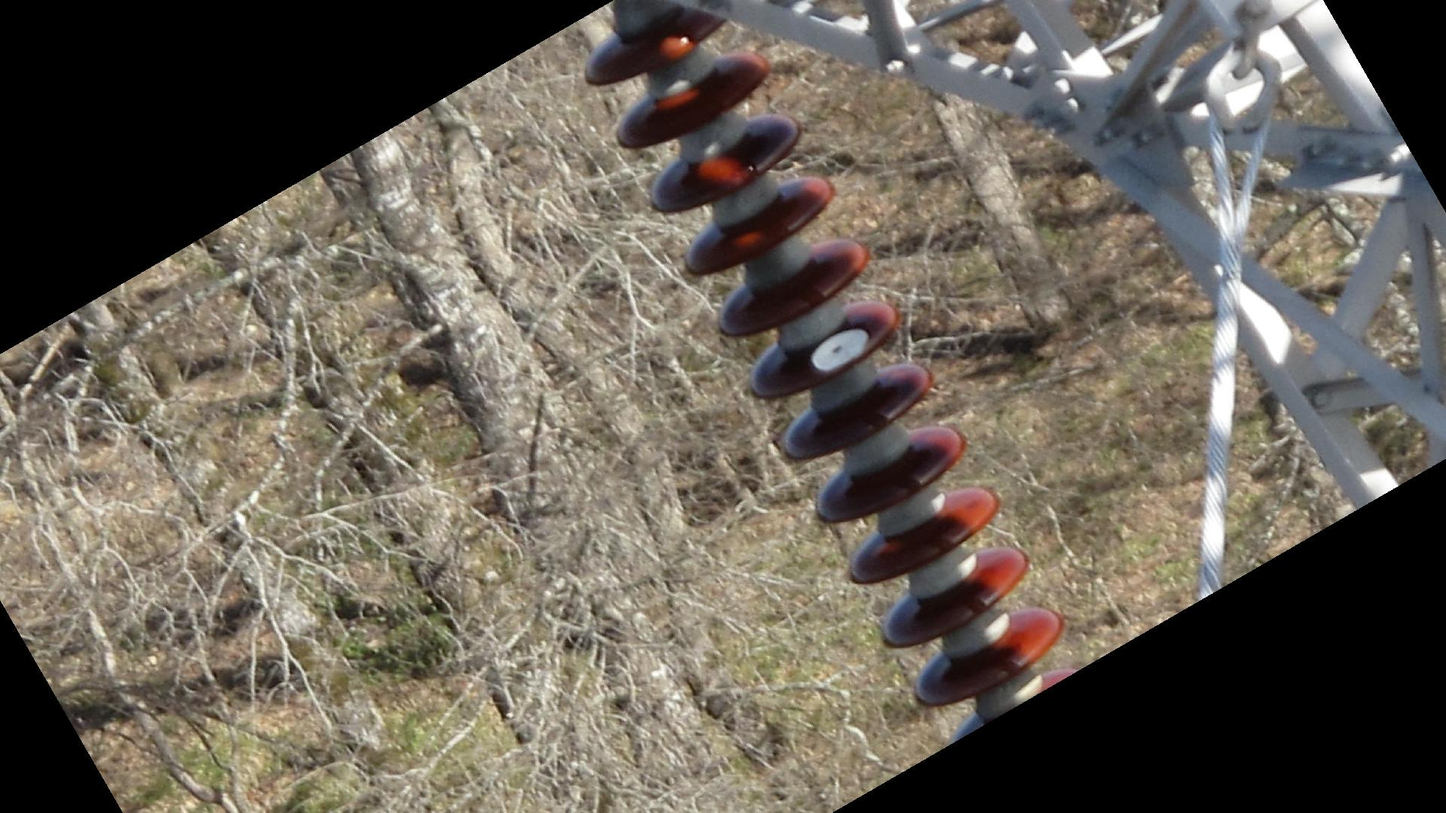insulator: (578, 1, 1087, 748)
insulator_breakage: (804, 322, 876, 376)
